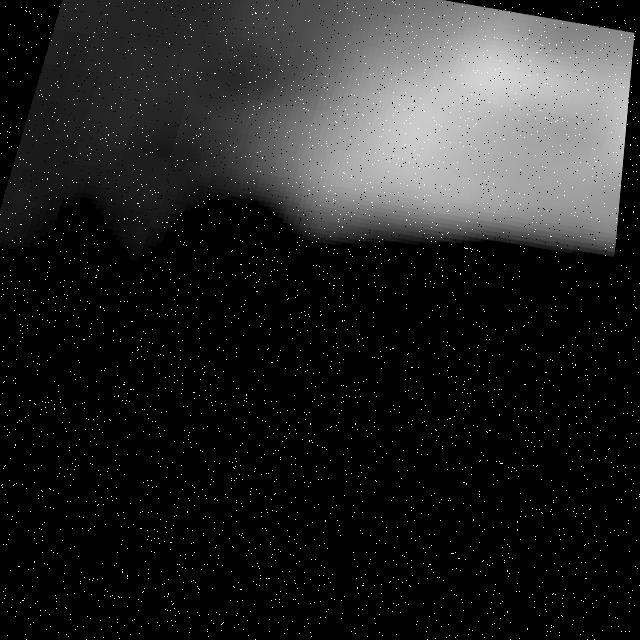person: (205, 1, 640, 345)
